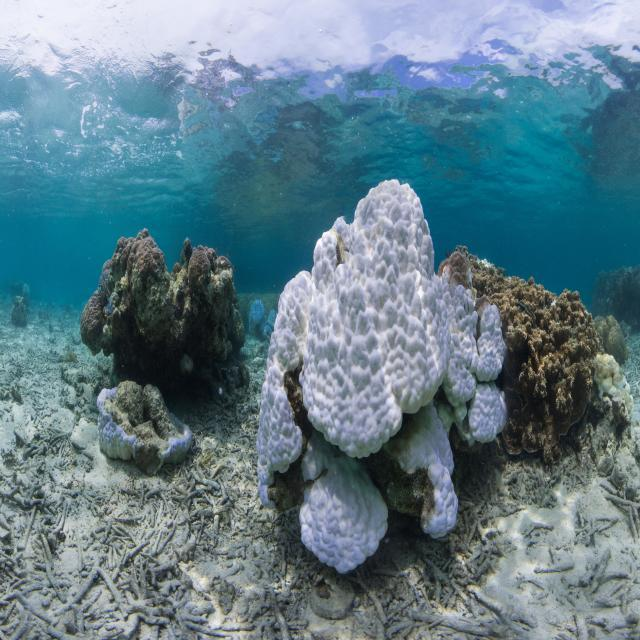Dead Coral: (6, 467, 224, 640), (80, 232, 243, 367), (366, 575, 458, 640), (456, 509, 512, 599)
